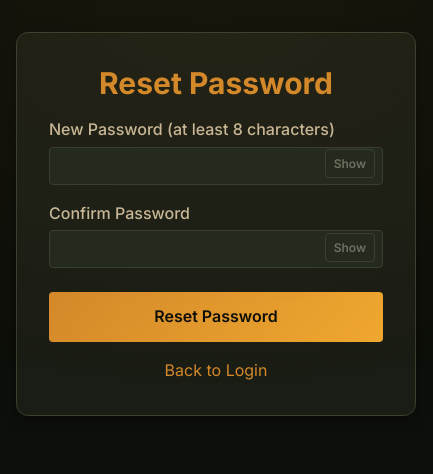
ResetPasswordForm › shows error when reset API fails
Type "newpassword1" into the password field labelled "New Password (at least 8 characters) Show" at x=216, y=166, box [49, 147, 383, 185]
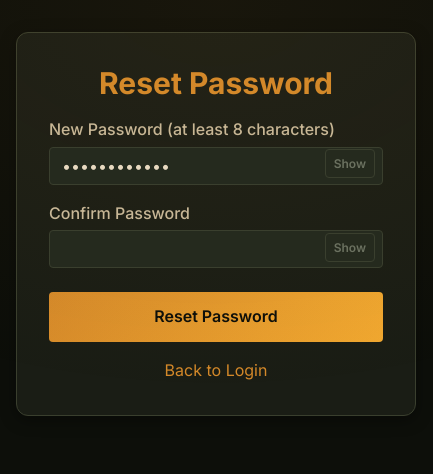
Type "newpassword1" into the password field labelled "Confirm Password Show" at x=216, y=249, box [49, 230, 383, 268]
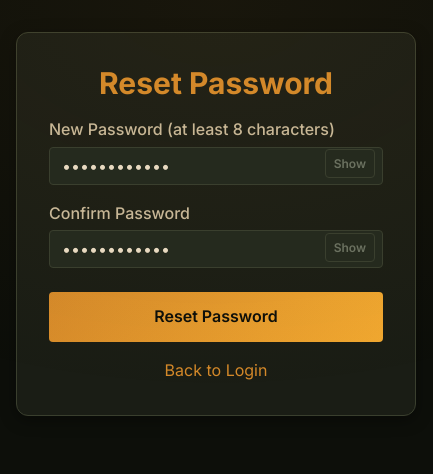
Click the button "Reset Password" at x=216, y=317, box [49, 292, 383, 342]
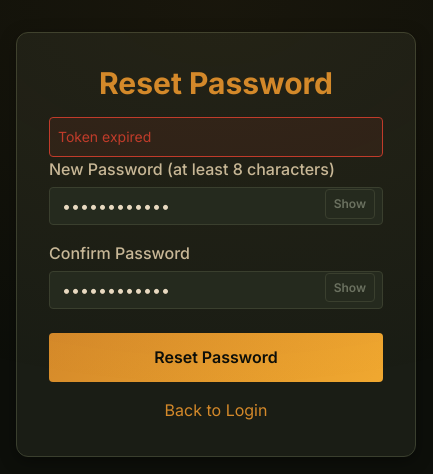
expect the message reads "Token expired": met, box [58, 128, 151, 145]
